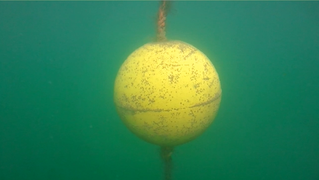buoy: (112, 39, 222, 147)
